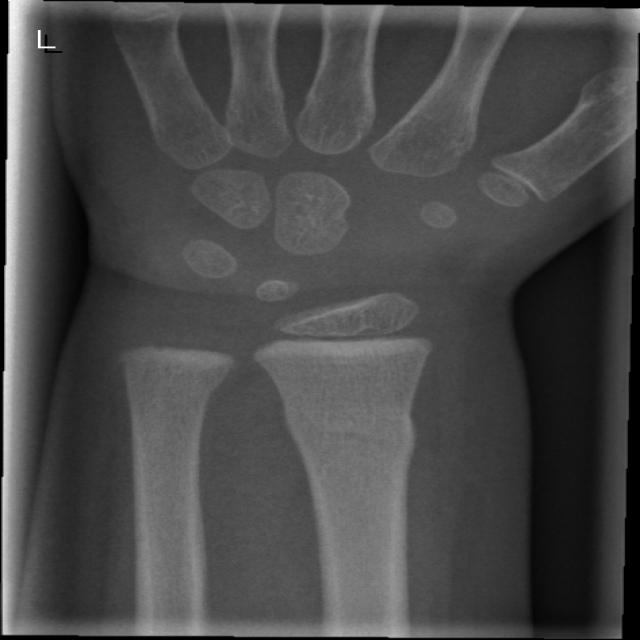radius fracture: (242, 385, 466, 538)
